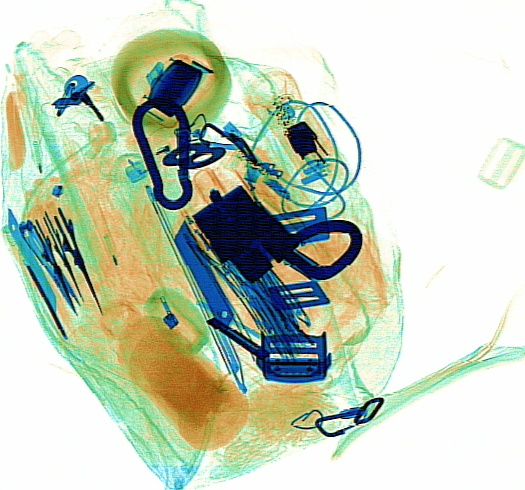knife: (171, 219, 232, 330), (3, 207, 56, 315)
lighter: (121, 125, 206, 183)
scissors: (44, 196, 104, 315), (14, 218, 81, 313), (23, 209, 76, 313), (35, 201, 85, 305)
